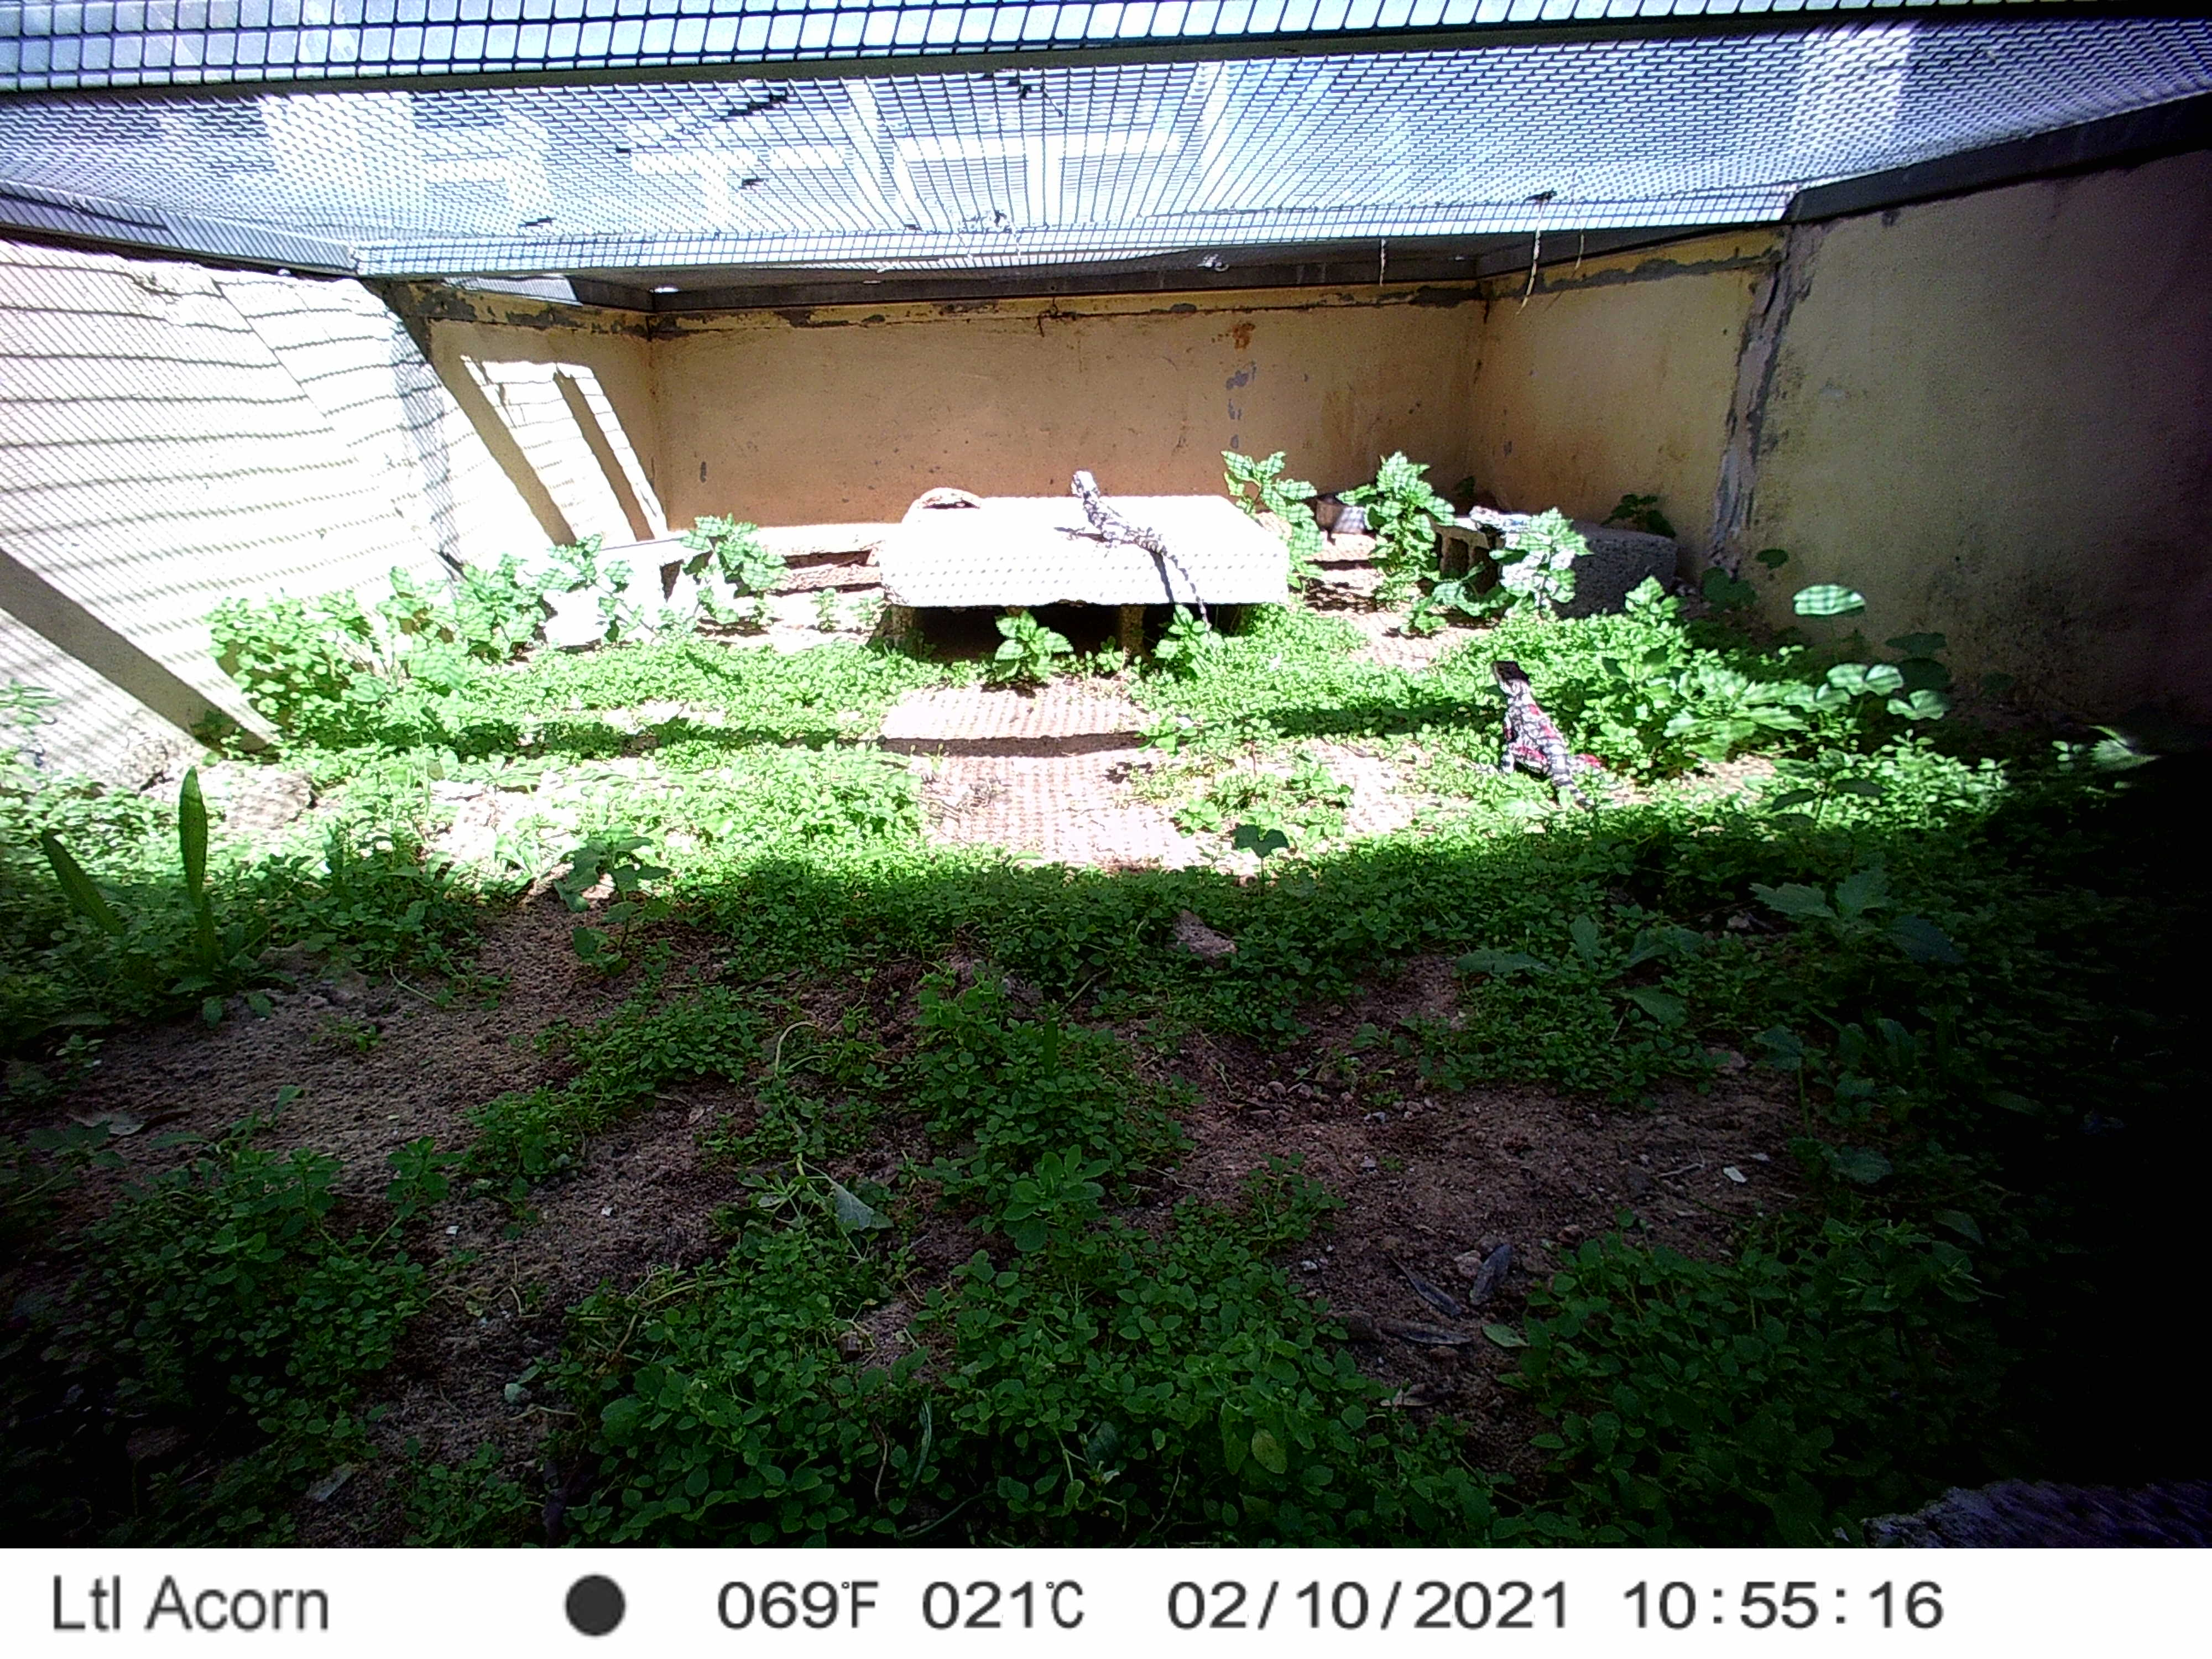lizard: (1059, 464, 1219, 643), (1486, 653, 1606, 842), (1463, 502, 1573, 554)
